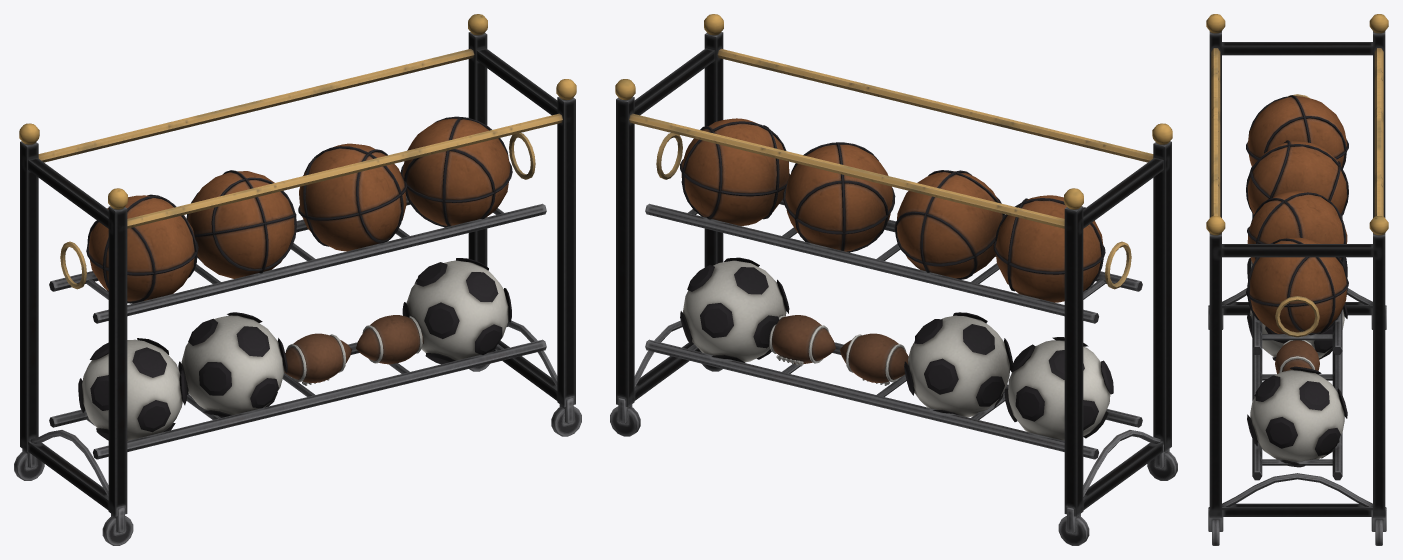
Rendered from BallRack.fbx.
The picture shows the model from 3 angles, left to right: view 1: azimuth 30°, elevation 25°; view 2: azimuth 150°, elevation 25°; view 3: azimuth 270°, elevation 25°; orthographic projection. The views are drawn at different scales.
Visible parts, largest first — view 1: BallRack; view 2: BallRack; view 3: BallRack.
Part boxes in pixels (<box>): BallRack: <box>14,14,581,545</box>; BallRack: <box>610,14,1177,545</box>; BallRack: <box>1206,14,1388,545</box>.
Size of the model in its own units: 403 by 288 by 145.
